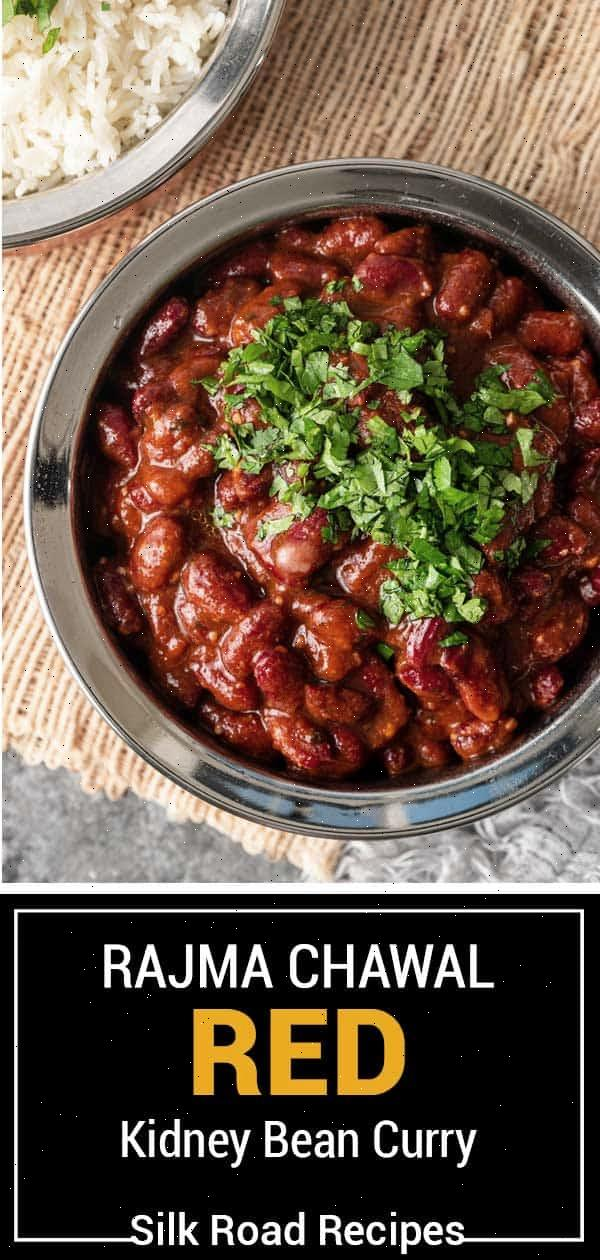rajma: (53, 229, 600, 786)
